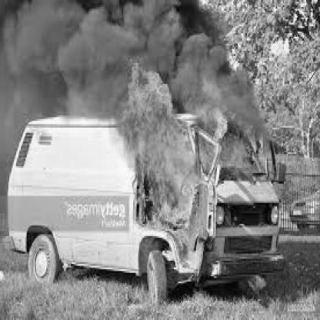Fire: (103, 60, 283, 246)
Smoke: (3, 1, 215, 100)
